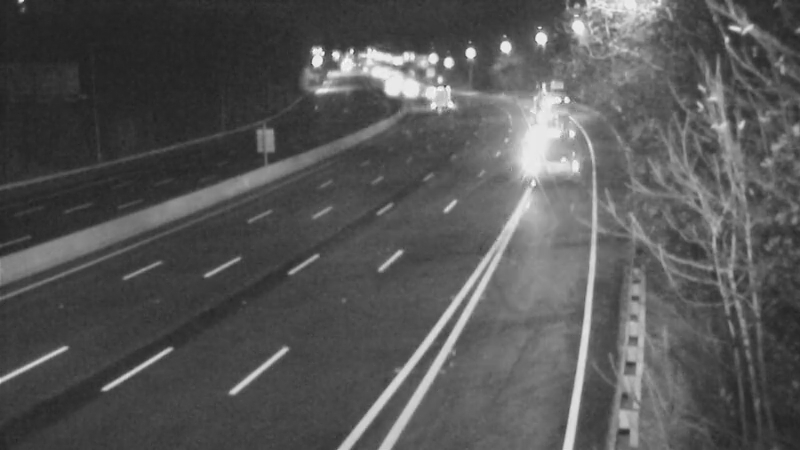vehicle: (524, 82, 574, 132), (417, 68, 467, 118), (526, 110, 576, 160)
